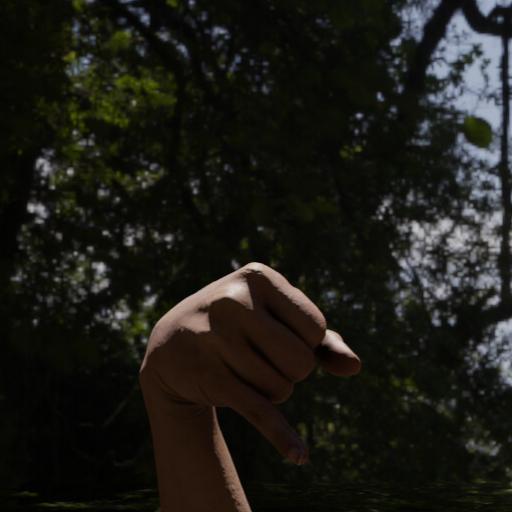J: (130, 256, 367, 478)
